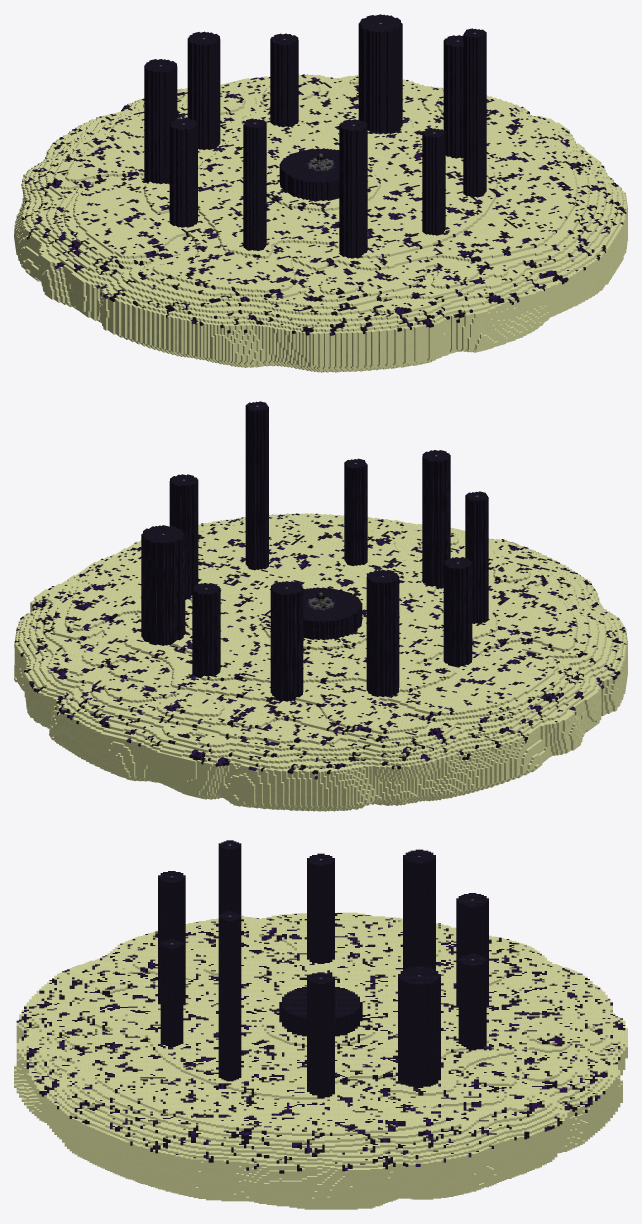
The model's file is stellarity_main_island.glb.
The picture shows the model from 3 angles, top to bottom: view 1: azimuth 30°, elevation 25°; view 2: azimuth 150°, elevation 25°; view 3: azimuth 270°, elevation 25°; orthographic projection.
Parts seen in each view (by area): view 1: StellarityMainIsland; view 2: StellarityMainIsland; view 3: StellarityMainIsland.
Boxes of the visible parts, <box> form: StellarityMainIsland: <box>14,14,627,372</box>; StellarityMainIsland: <box>14,401,627,811</box>; StellarityMainIsland: <box>14,840,627,1209</box>.
Bounding box in the file's own units: 243 × 104 × 243.
8 materials, 8 textured.
